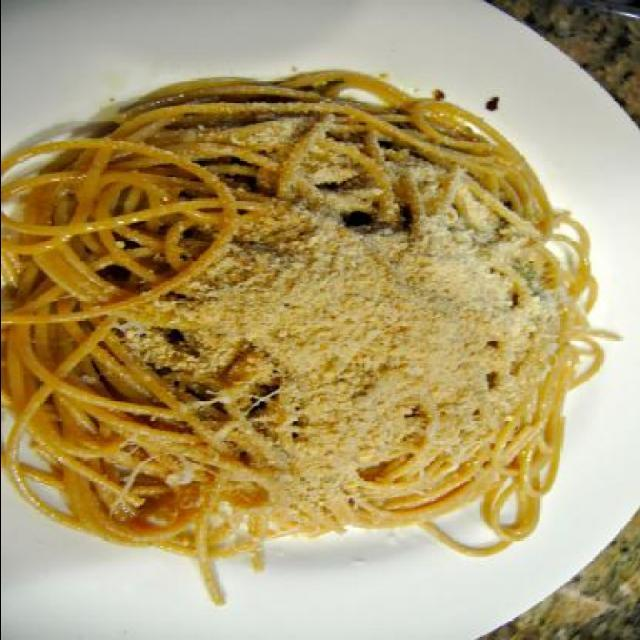Oil pasta: (1, 70, 613, 599)
